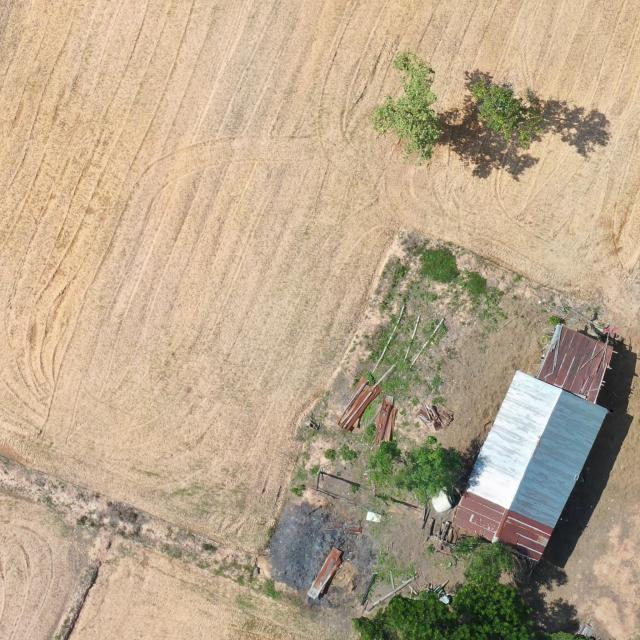tree: (351, 581, 597, 640), (371, 52, 442, 166), (465, 74, 545, 150), (376, 434, 461, 501), (453, 534, 519, 586)
